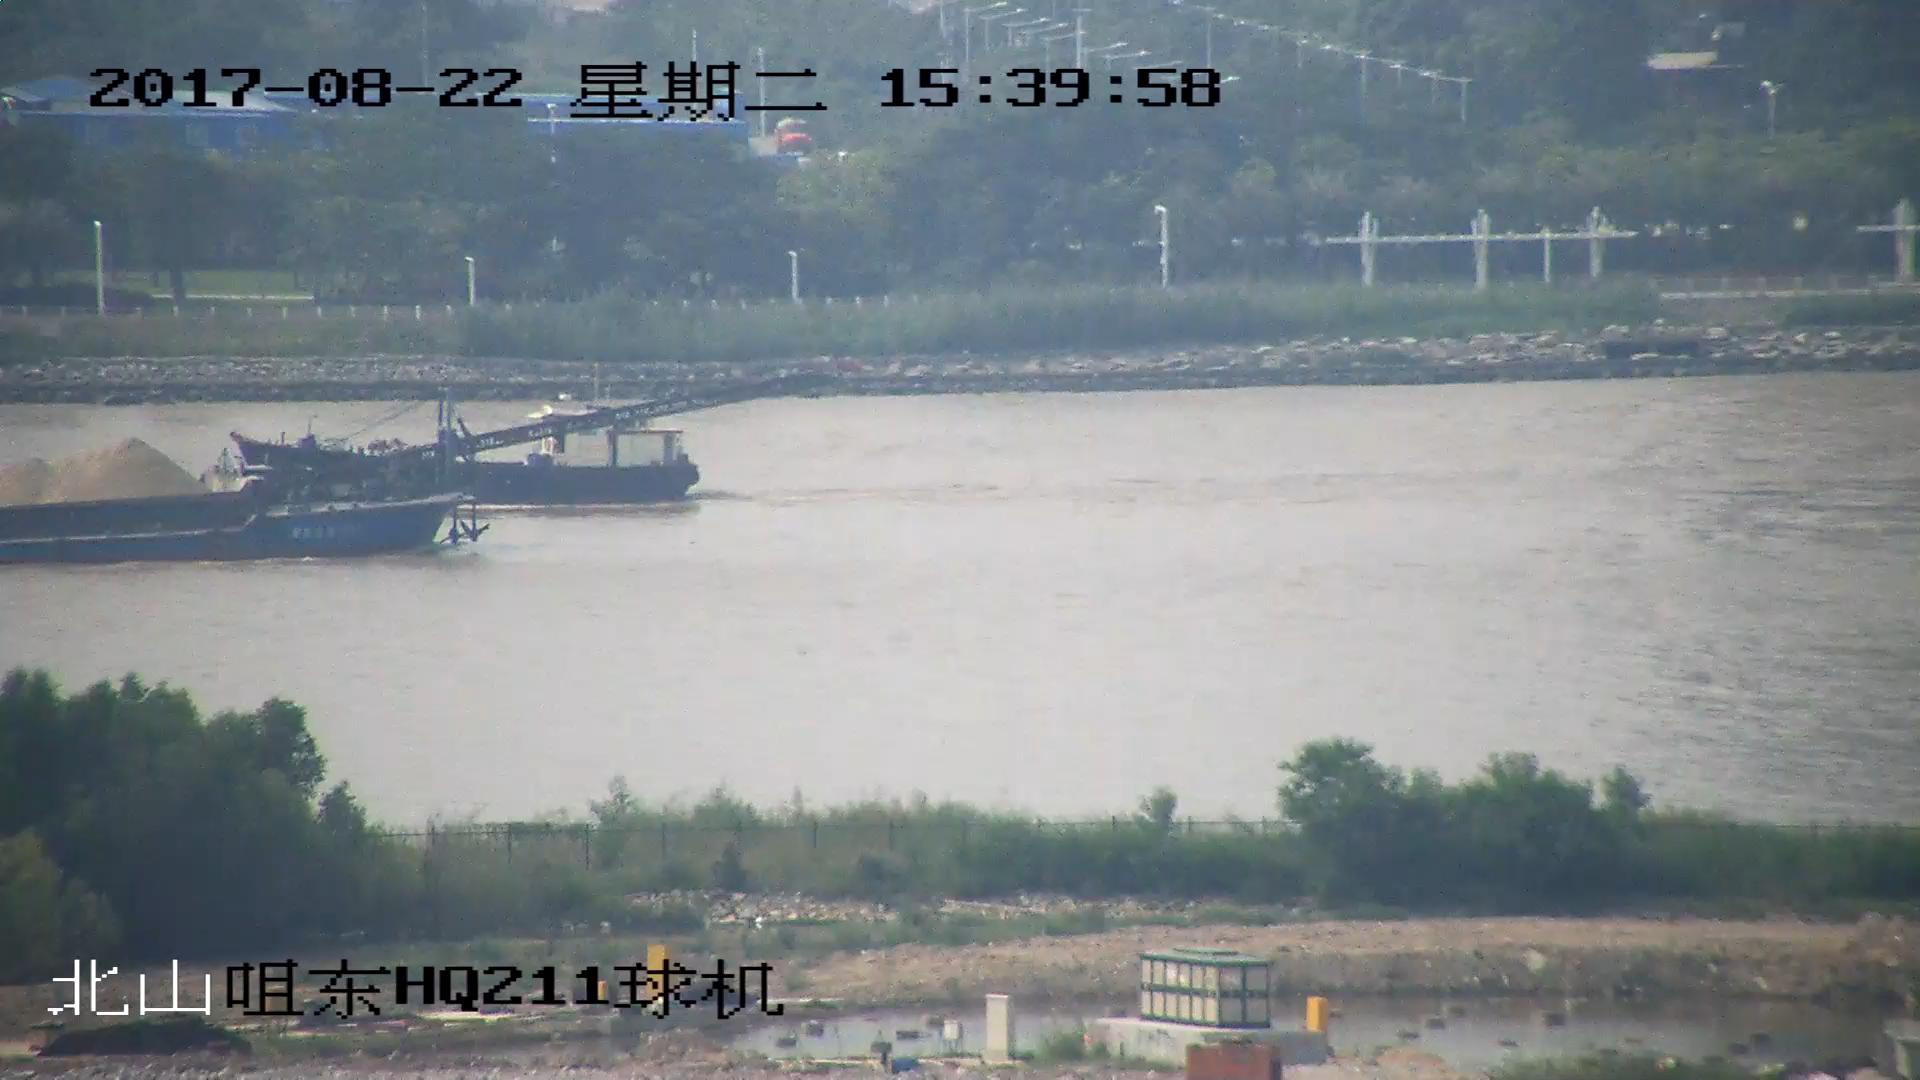fishing boat: (227, 393, 702, 507)
ore carrier: (1, 369, 833, 563)
